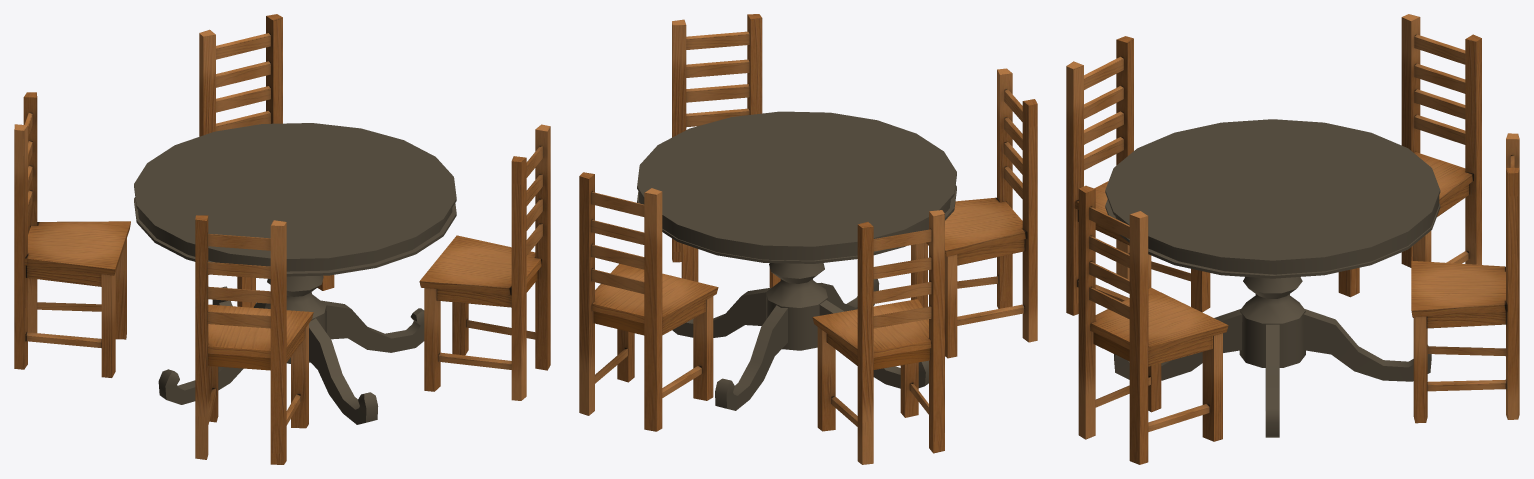
Rendered from tablewithchairs.glb.
3 renders of one model, left to right at view 1: azimuth 30°, elevation 25°; view 2: azimuth 150°, elevation 25°; view 3: azimuth 270°, elevation 25°, orthographic. The views are drawn at different scales.
Visible parts, largest first — view 1: Table_RoundSmall2, Chair_mesh.001, Chair_mesh.003, Chair_mesh.002, Chair_mesh; view 2: Table_RoundSmall2, Chair_mesh, Chair_mesh.002, Chair_mesh.003, Chair_mesh.001; view 3: Table_RoundSmall2, Chair_mesh.001, Chair_mesh, Chair_mesh.002, Chair_mesh.003.
Part boxes in pixels (<box>): Table_RoundSmall2: <box>134,123,456,424</box>; Chair_mesh.001: <box>419,124,550,400</box>; Chair_mesh.003: <box>195,215,313,464</box>; Chair_mesh.002: <box>14,92,130,377</box>; Chair_mesh: <box>199,14,334,307</box>; Table_RoundSmall2: <box>637,111,956,410</box>; Chair_mesh: <box>579,172,718,431</box>; Chair_mesh.002: <box>812,210,944,464</box>; Chair_mesh.003: <box>911,68,1037,358</box>; Chair_mesh.001: <box>672,14,780,287</box>; Table_RoundSmall2: <box>1105,119,1440,437</box>; Chair_mesh.001: <box>1078,185,1228,464</box>; Chair_mesh: <box>1411,133,1519,423</box>; Chair_mesh.002: <box>1338,14,1481,317</box>; Chair_mesh.003: <box>1066,36,1210,315</box>.
Size of the model in its own units: 22.71 by 13.29 by 21.3.
Materials: 5 (4 with a texture image).
